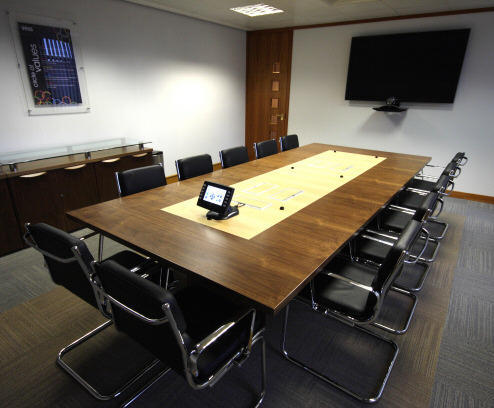conference_table: (67, 143, 432, 351)
